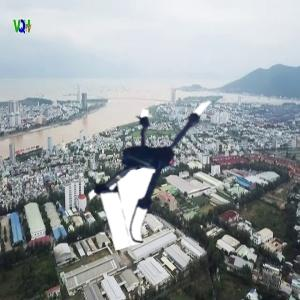drone: (81, 85, 233, 237)
